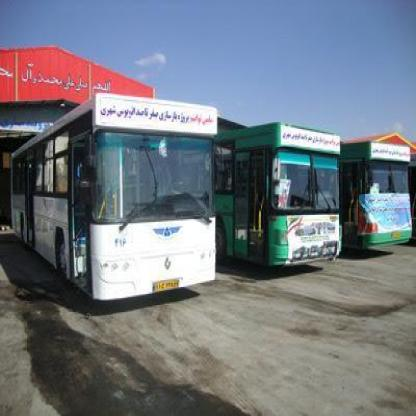Bus: (2, 91, 228, 308), (218, 124, 352, 278), (339, 140, 416, 248)
